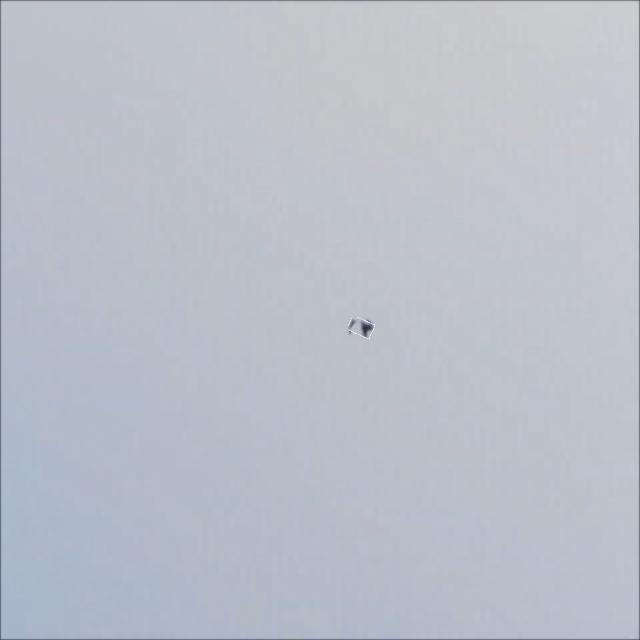UAV: (334, 304, 374, 362)
